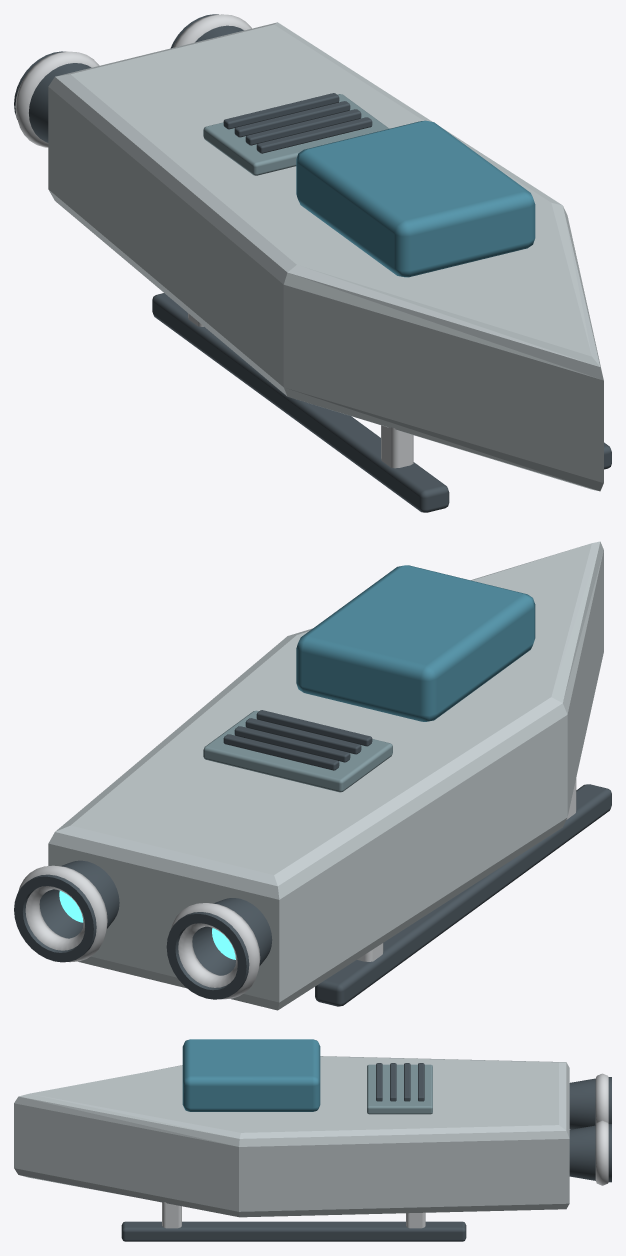
The picture shows the model from 3 angles, top to bottom: view 1: azimuth 30°, elevation 25°; view 2: azimuth 150°, elevation 25°; view 3: azimuth 270°, elevation 25°; orthographic projection. The views are drawn at different scales.
Visible parts, largest first — view 1: shuttle; view 2: shuttle; view 3: shuttle.
Part boxes in pixels (x1=…): shuttle: x1=14, y1=14, x2=611, y2=512; shuttle: x1=14, y1=541, x2=611, y2=1010; shuttle: x1=14, y1=1039, x2=611, y2=1241.
Size of the model in its own units: 1.56 by 1.3 by 4.51.
